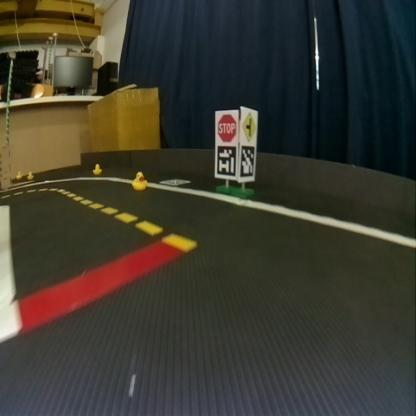Duckie: (132, 172, 146, 188), (92, 163, 100, 175), (27, 171, 33, 179), (16, 170, 22, 178)
Intersection sign: (240, 110, 256, 141)
QR code: (216, 144, 235, 177), (238, 146, 254, 176), (160, 178, 189, 186)
Stop sign: (216, 113, 236, 142)
